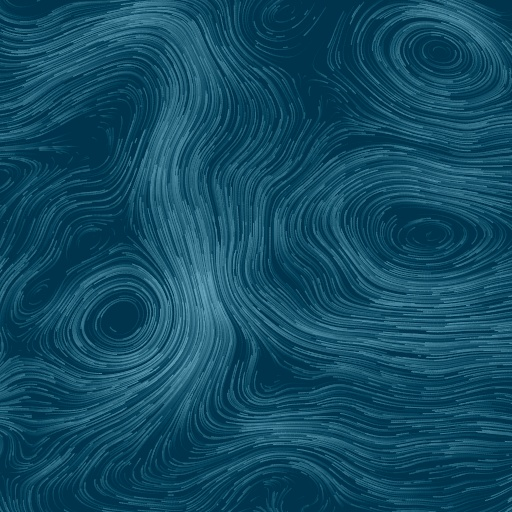eddy: (371, 4, 509, 111), (354, 188, 498, 279), (67, 268, 170, 368), (14, 272, 59, 320), (258, 3, 315, 35)
